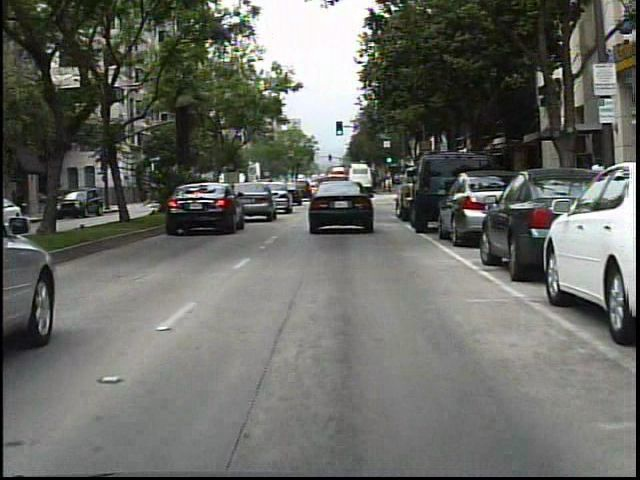person: (588, 152, 613, 225)
